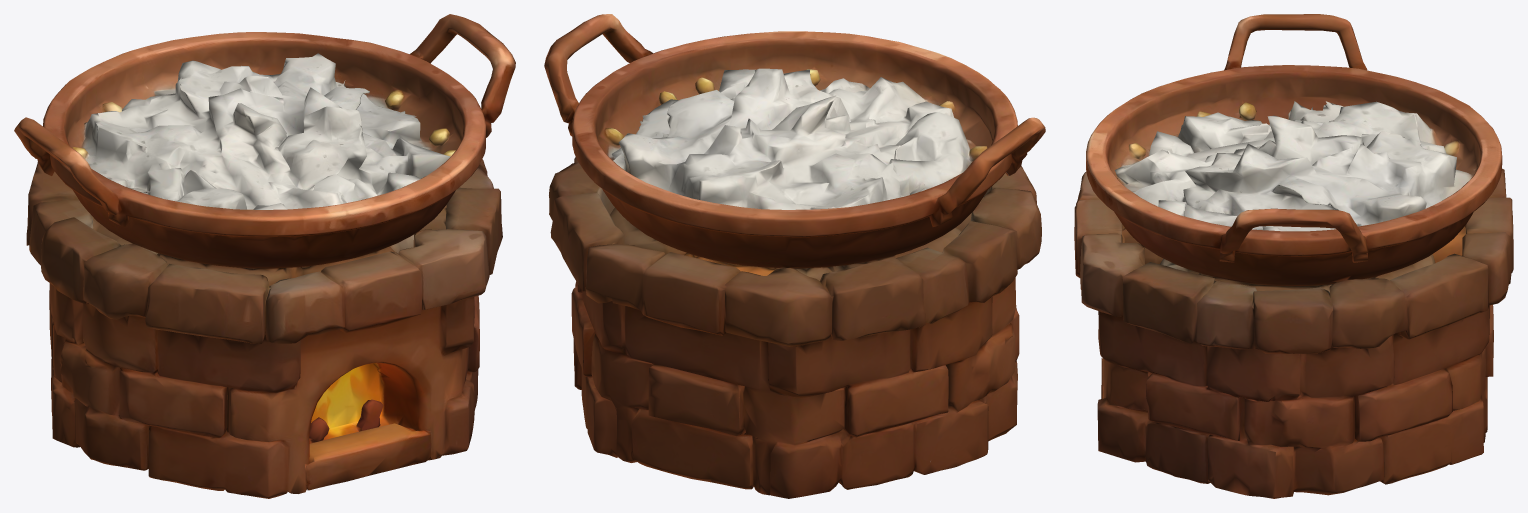
File: evap-pan.glb
The picture shows the model from 3 angles, left to right: view 1: azimuth 30°, elevation 25°; view 2: azimuth 150°, elevation 25°; view 3: azimuth 270°, elevation 25°; orthographic projection. The views are drawn at different scales.
Visible parts, largest first — view 1: tripo_node_30655361-71a3-45d8-ba29-00bcda5dc166; view 2: tripo_node_30655361-71a3-45d8-ba29-00bcda5dc166; view 3: tripo_node_30655361-71a3-45d8-ba29-00bcda5dc166.
Boxes of the visible parts, x1=… form: tripo_node_30655361-71a3-45d8-ba29-00bcda5dc166: x1=14, y1=14, x2=515, y2=498; tripo_node_30655361-71a3-45d8-ba29-00bcda5dc166: x1=544, y1=14, x2=1045, y2=498; tripo_node_30655361-71a3-45d8-ba29-00bcda5dc166: x1=1074, y1=14, x2=1513, y2=498.
Bounding box in the file's own units: 1 × 0.6777 × 0.9016.
Materials: 1 (1 with a texture image).
